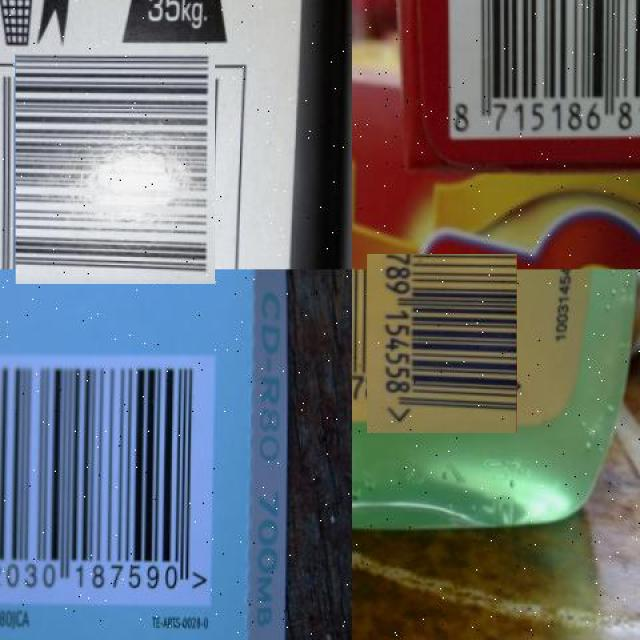Barcode: (0, 344, 216, 608), (8, 62, 223, 277), (360, 262, 524, 426), (445, 0, 639, 134)
